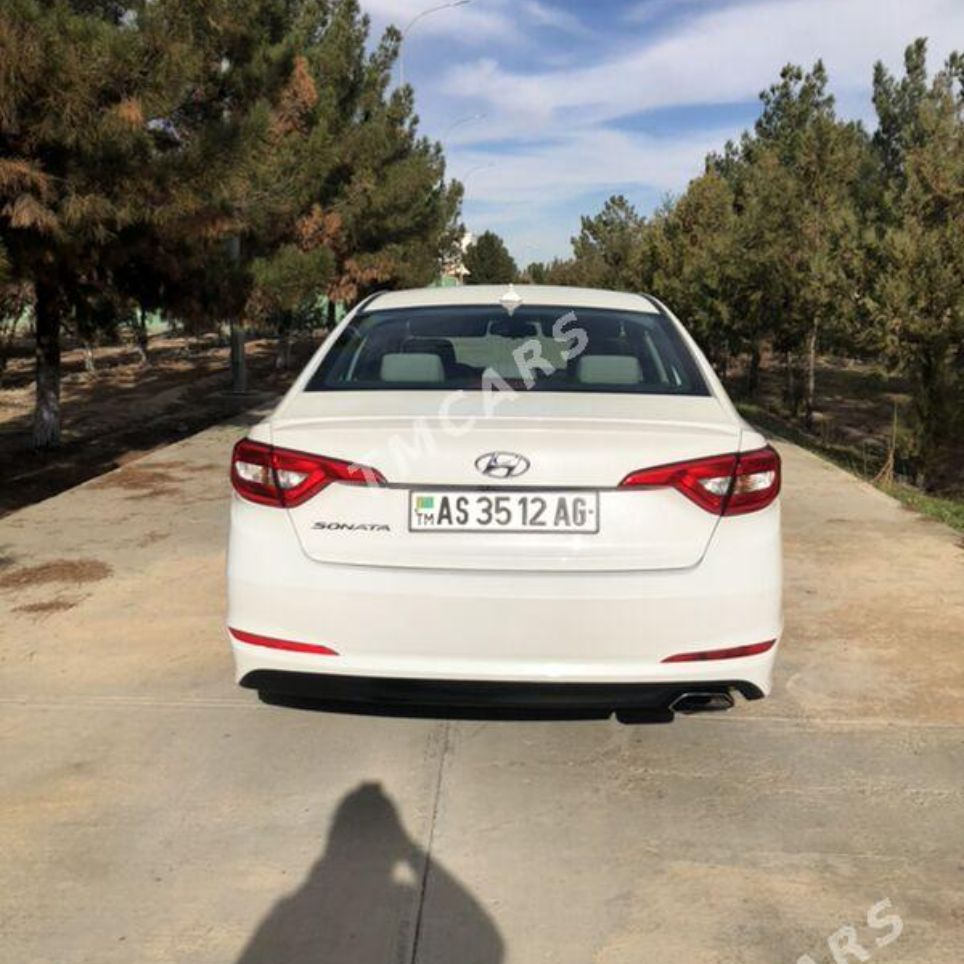license plate: (409, 490, 598, 531)
truck: (228, 280, 782, 716)
